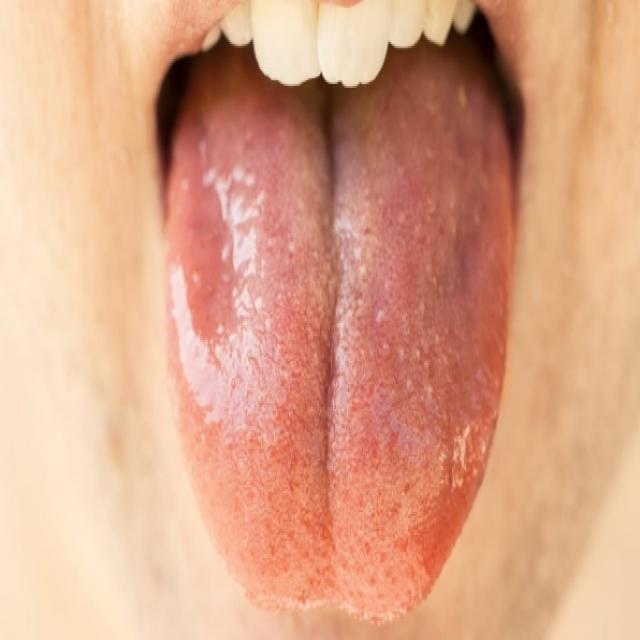baitaishe: (165, 89, 512, 626)
gandanao: (175, 141, 269, 387)
